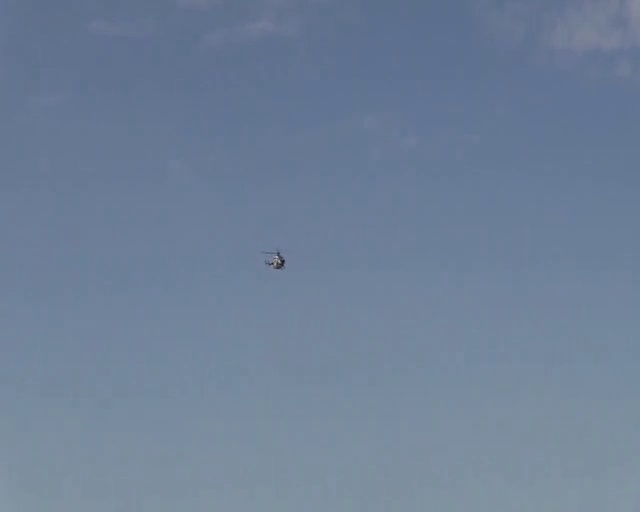HELICOPTER: (261, 247, 285, 269)
